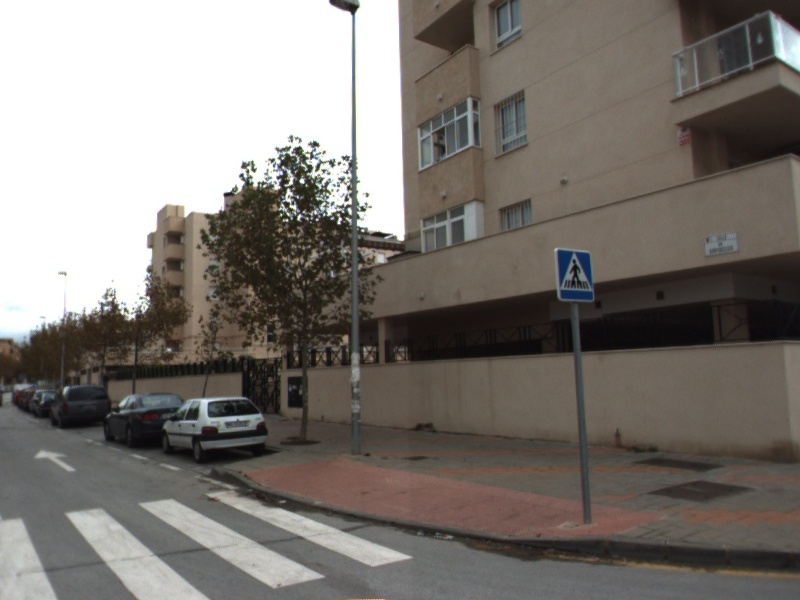STRAIGHT: (32, 447, 79, 474)
